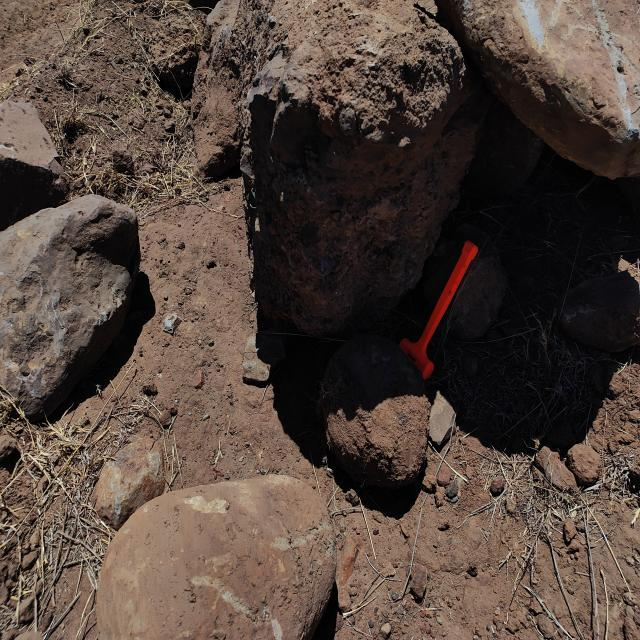Orange_hammer: (398, 239, 479, 380)
